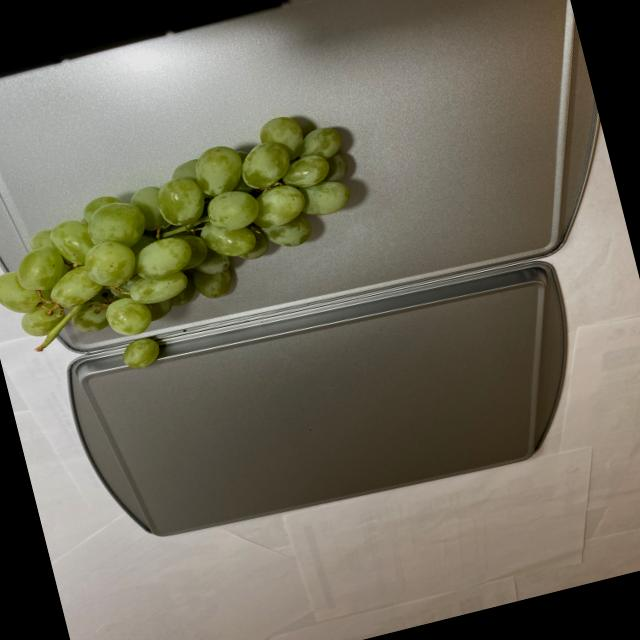grapes: (0, 106, 396, 397)
